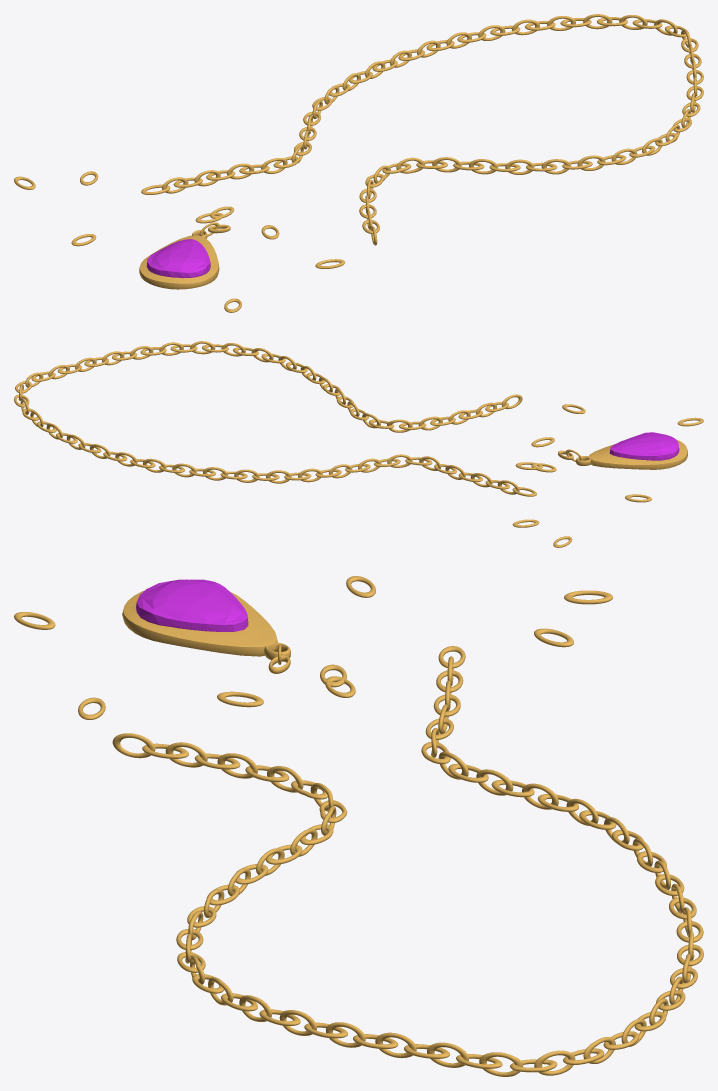
File: Jewelry.fbx
3 renders of one model, top to bottom at view 1: azimuth 30°, elevation 25°; view 2: azimuth 150°, elevation 25°; view 3: azimuth 270°, elevation 25°, orthographic. The views are drawn at different scales.
Parts seen in each view (by area): view 1: Torus.009; view 2: Torus.009; view 3: Torus.009.
Boxes of the visible parts, x1,y1,x2,y2 form: Torus.009: (14, 14, 703, 312); Torus.009: (14, 341, 703, 547); Torus.009: (14, 576, 703, 1076).
Bounding box in the file's own units: 983 × 31.37 × 562.
